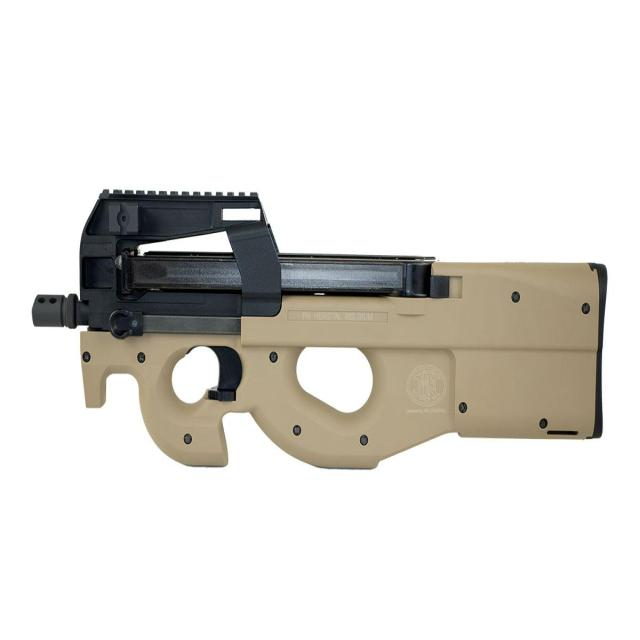Gun: (28, 149, 623, 533)
